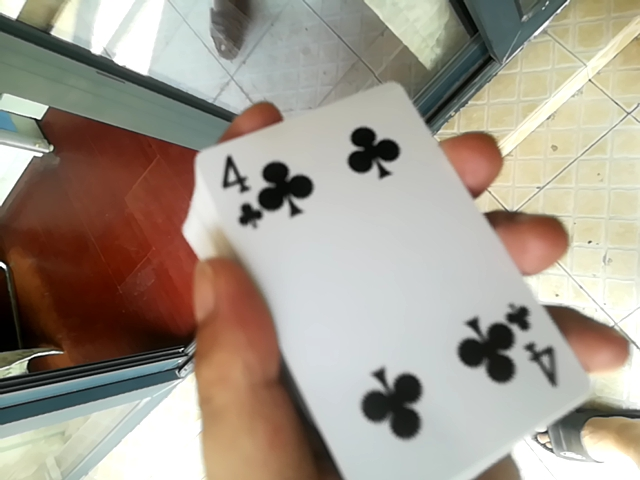mh 4: (163, 33, 610, 478)
